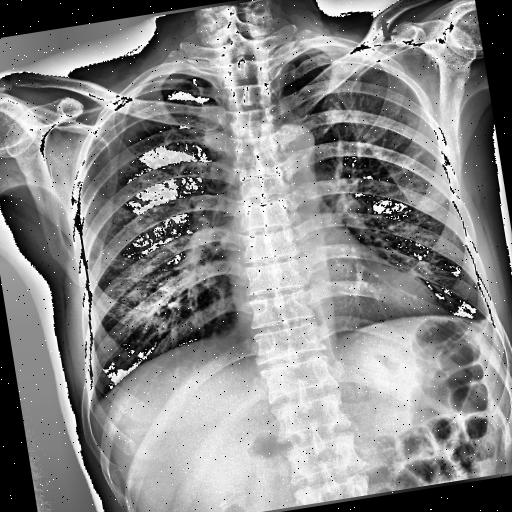10- Pleural effusion: (473, 311, 499, 337)
11- Pleural thickening: (473, 311, 499, 337)
5- ILD: (103, 244, 189, 344)
6- Infiltration: (116, 254, 188, 332)
